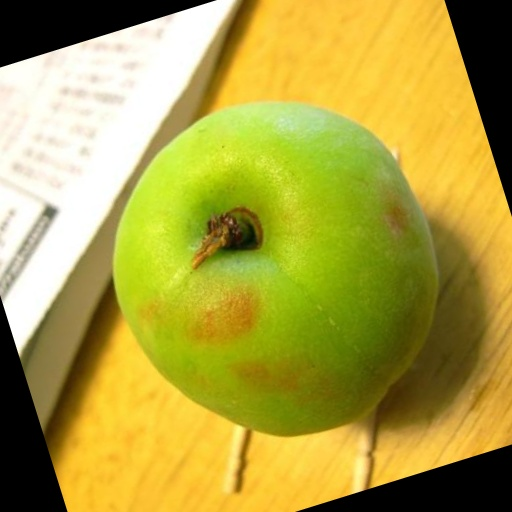fruit: (14, 139, 236, 498)
